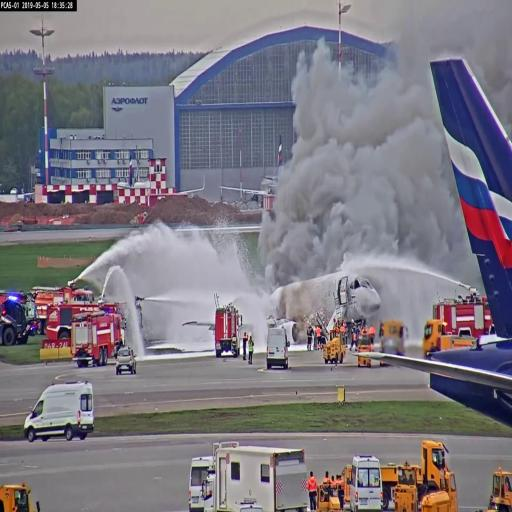smoke: (304, 62, 430, 232)
